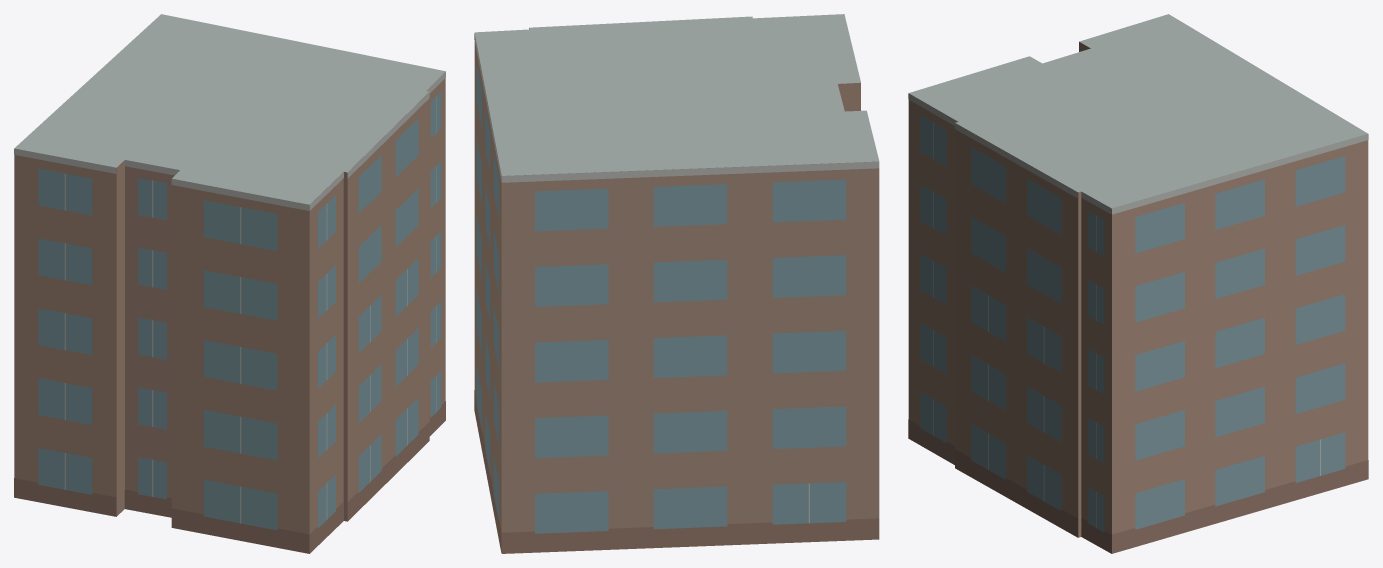
The model's file is survey-upis-32660709.glb.
3 renders of one model, left to right at view 1: azimuth 30°, elevation 25°; view 2: azimuth 150°, elevation 25°; view 3: azimuth 270°, elevation 25°, orthographic. The views are drawn at different scales.
Parts seen in each view (by area): view 1: survey-upis-32660709.tmp; view 2: survey-upis-32660709.tmp; view 3: survey-upis-32660709.tmp.
Boxes of the visible parts, x1,y1,x2,y2 form: survey-upis-32660709.tmp: [14, 14, 445, 553]; survey-upis-32660709.tmp: [474, 14, 879, 553]; survey-upis-32660709.tmp: [908, 14, 1368, 553].
Size of the model in its own units: 16.31 by 13.5 by 16.3.
